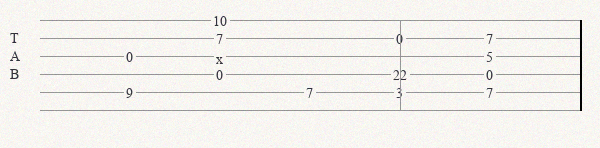0: (126, 49, 137, 63), (216, 67, 227, 81), (396, 31, 407, 45), (486, 67, 497, 81)
10: (213, 13, 231, 27)
22: (393, 67, 411, 81)
3: (396, 85, 407, 99)
5: (486, 49, 497, 63)
7: (216, 31, 227, 45), (306, 85, 317, 99), (486, 31, 497, 45), (486, 85, 497, 99)
9: (126, 85, 137, 99)
x: (216, 51, 227, 62)
